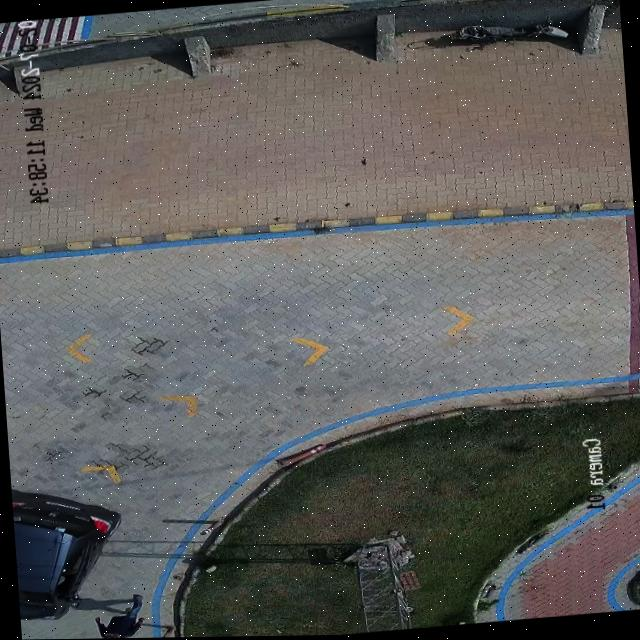car: (11, 490, 119, 619)
